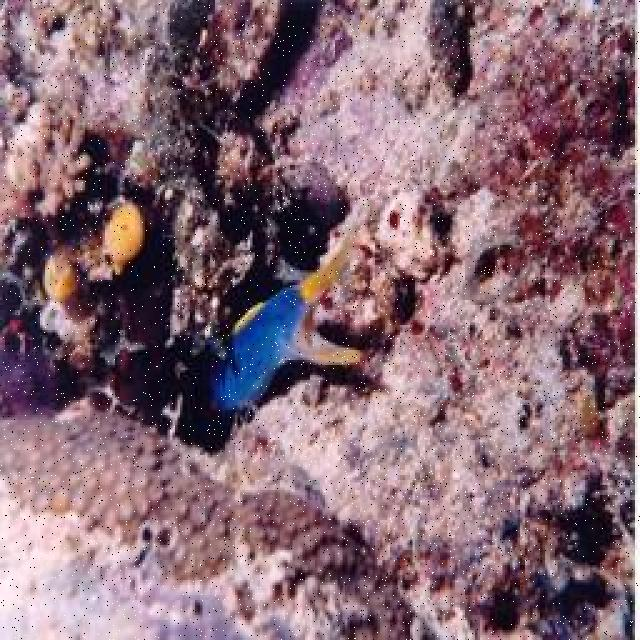fish: (203, 219, 364, 419)
